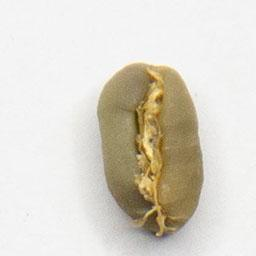peaberry: (93, 59, 208, 240)
